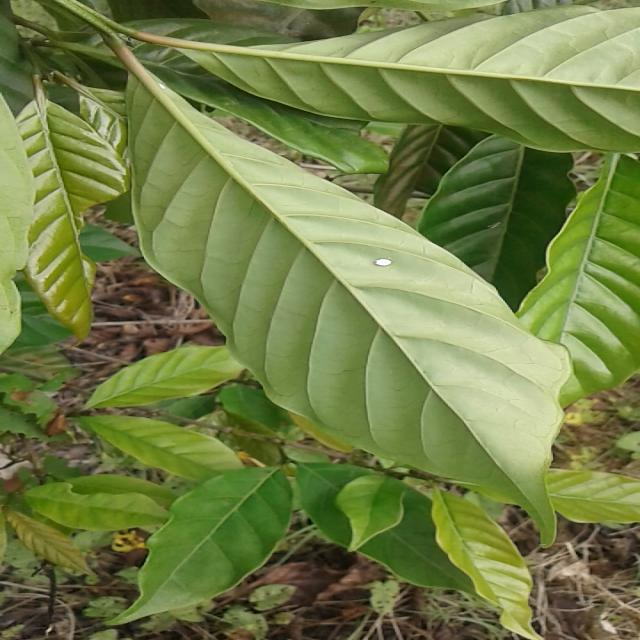Sanas: (120, 50, 572, 539)
